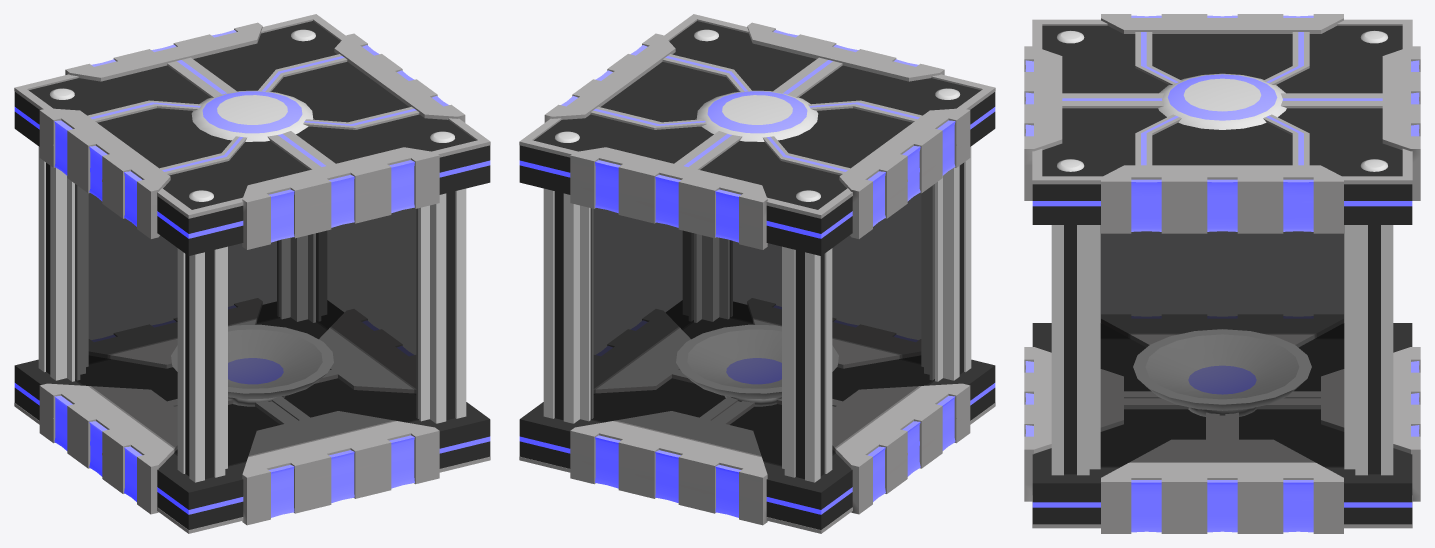
The model's file is share box ver2.fbx.
3 renders of one model, left to right at view 1: azimuth 30°, elevation 25°; view 2: azimuth 150°, elevation 25°; view 3: azimuth 270°, elevation 25°, orthographic. The views are drawn at different scales.
Parts seen in each view (by area): view 1: main_ita, glass1, glass4, kazari43, glass3, glass2, kazari1, kazari46, hashira1, hashira2, hashira4, kazari42 (+15 smaller); view 2: main_ita, glass3, glass4, kazari45, glass1, glass2, kazari41, kazari46, hashira4, hashira3, hashira1, kazari42 (+15 smaller); view 3: main_ita, glass2, glass4, kazari44, kazari40, hashira2, hashira3, sara2, kazari24, kazari43, kazari45, kazari46 (+11 smaller).
Part boxes in pixels (x1,y1,x2,y2): main_ita: (14, 21, 490, 529); glass1: (228, 208, 419, 466); glass4: (75, 184, 177, 455); kazari43: (242, 396, 439, 525); glass3: (89, 193, 279, 363); glass2: (316, 208, 415, 388); kazari1: (242, 147, 439, 249); kazari46: (39, 383, 233, 514); hashira1: (177, 246, 227, 482); hashira2: (416, 188, 466, 423); hashira4: (38, 146, 88, 381); kazari42: (39, 108, 170, 238); main_ita: (519, 21, 995, 529); glass3: (590, 208, 781, 466); glass4: (832, 184, 934, 455); kazari45: (570, 396, 767, 525); glass1: (730, 193, 920, 363); glass2: (594, 208, 693, 388); kazari41: (570, 147, 767, 249); kazari46: (776, 383, 970, 514); hashira4: (782, 246, 832, 482); hashira3: (543, 188, 593, 423); hashira1: (921, 146, 971, 381); kazari42: (839, 108, 970, 238); main_ita: (1032, 25, 1412, 524); glass2: (1100, 225, 1344, 467); glass4: (1101, 231, 1343, 338); kazari44: (1101, 412, 1343, 533); kazari40: (1101, 165, 1343, 233); hashira2: (1051, 225, 1100, 475); hashira3: (1344, 225, 1393, 475); sara2: (1133, 329, 1311, 416); kazari24: (1158, 73, 1286, 129); kazari43: (1024, 347, 1188, 501); kazari45: (1256, 347, 1420, 501); kazari46: (1101, 314, 1343, 347).
Size of the model in its own units: 10.44 by 10.5 by 10.44.
